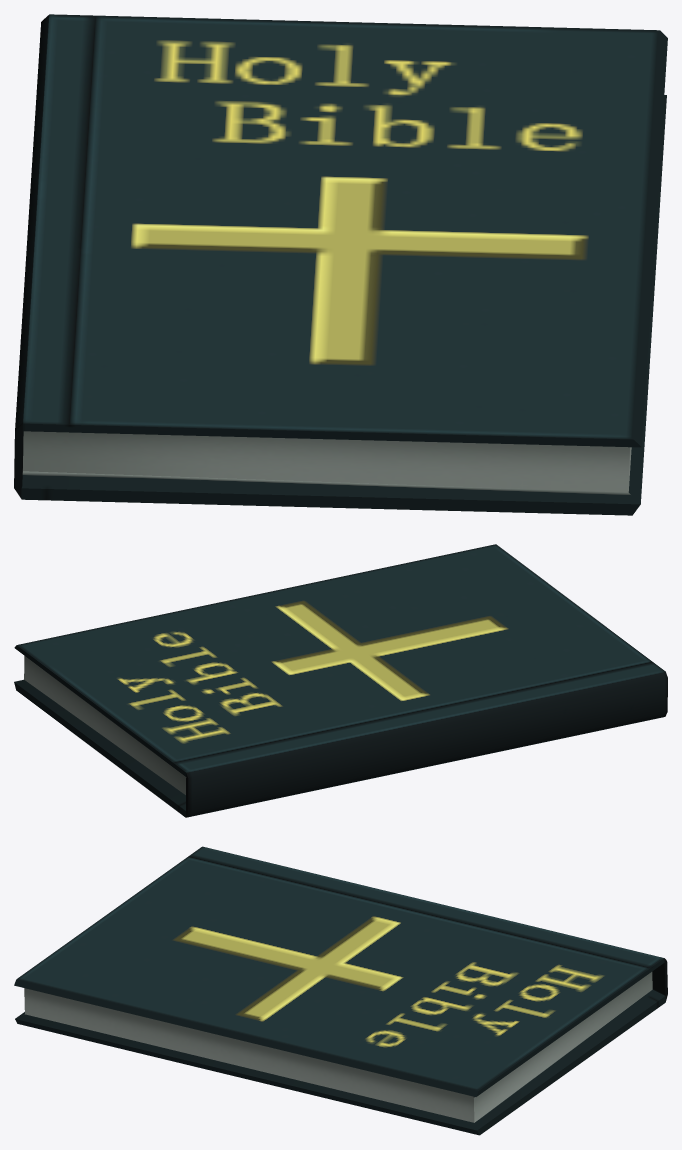
The model's file is ShenFuXiuXiShi_01_shengjing_01.FBX.
3 renders of one model, top to bottom at view 1: azimuth 30°, elevation 25°; view 2: azimuth 150°, elevation 25°; view 3: azimuth 270°, elevation 25°, orthographic. The views are drawn at different scales.
Visible parts, largest first — view 1: ShenFuXiuXiShi_01_shengjing_01; view 2: ShenFuXiuXiShi_01_shengjing_01; view 3: ShenFuXiuXiShi_01_shengjing_01.
Part boxes in pixels (x1=…): ShenFuXiuXiShi_01_shengjing_01: x1=14, y1=14, x2=667, y2=515; ShenFuXiuXiShi_01_shengjing_01: x1=14, y1=544, x2=667, y2=817; ShenFuXiuXiShi_01_shengjing_01: x1=14, y1=846, x2=667, y2=1135.
Bounding box in the file's own units: 204 × 22.03 × 224.
